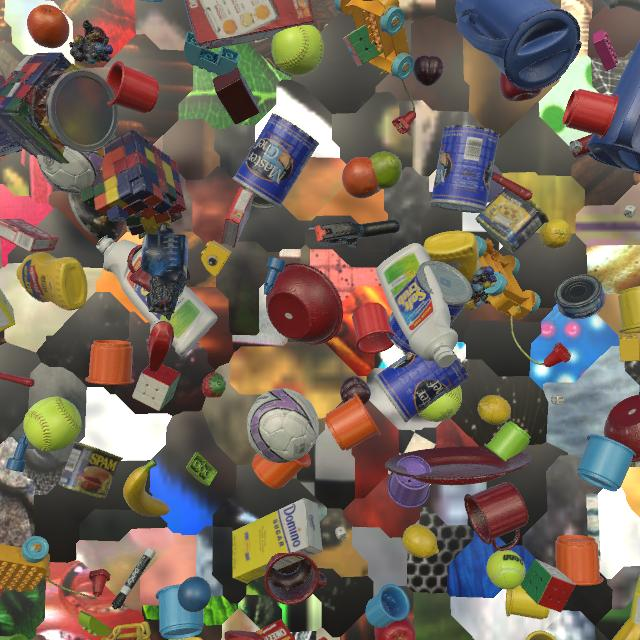ycb_002_master_chef_can: (233, 113, 319, 208), (386, 261, 472, 355), (374, 350, 470, 423), (430, 124, 499, 213)
ycb_003_cracker_box: (184, 0, 314, 49), (241, 619, 296, 640), (319, 637, 328, 640)
ycb_004_sugar_box: (232, 498, 323, 584), (0, 289, 15, 332), (630, 574, 640, 626)
ycb_005_tomato_soup_can: (246, 146, 275, 208)
ycb_006_mustard_bottle: (424, 231, 483, 310), (17, 252, 88, 311)
ycb_007_tuna_fish_can: (555, 274, 606, 319)
ycb_009_gelatin_box: (221, 187, 254, 248), (0, 219, 58, 252)
ycb_010_potted_meat_can: (475, 188, 549, 253), (59, 441, 123, 499)
ycb_011_banana: (123, 459, 170, 517), (612, 618, 640, 640)
ycb_012_strawberry: (202, 372, 226, 398)
ycb_013_apple: (500, 71, 542, 101), (374, 616, 416, 640)
ycb_014_lemon: (403, 524, 439, 558), (477, 395, 511, 425), (539, 219, 572, 249)
ycb_015_peach: (96, 147, 105, 157)
ycb_016_pear: (370, 152, 402, 194)
ycb_017_orange: (27, 5, 70, 48), (342, 157, 379, 198)
ycb_018_plum: (413, 55, 444, 86), (340, 376, 371, 404)
